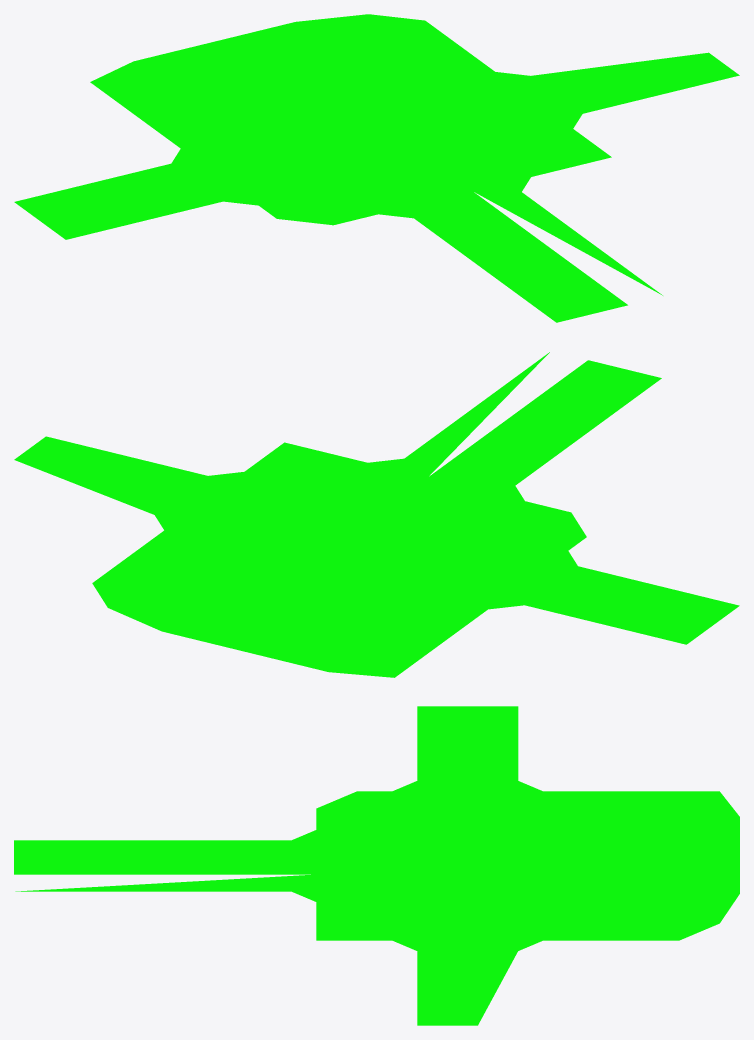
The model's file is s06a_td1-floor.glb.
3 views of the same model, one above another, from view 1: azimuth 30°, elevation 25°; view 2: azimuth 150°, elevation 25°; view 3: azimuth 270°, elevation 25° (orthographic). The views are drawn at different scales.
Visible parts, largest first — view 1: collision_floor-colonly; view 2: collision_floor-colonly; view 3: collision_floor-colonly.
Part boxes in pixels (box(x1,y1,x2,y2)): collision_floor-colonly: box(14, 14, 739, 322); collision_floor-colonly: box(14, 352, 739, 677); collision_floor-colonly: box(14, 706, 739, 1025).
Size of the model in its own units: 75 by 0 by 72.
